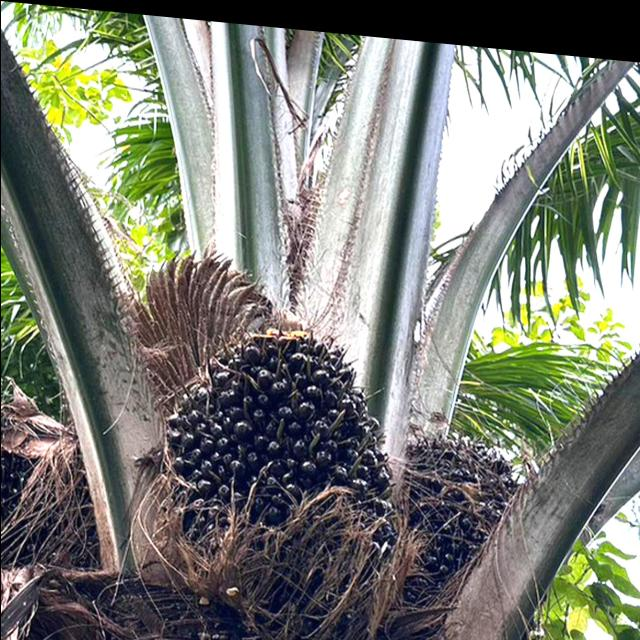almost: (159, 316, 392, 577), (400, 401, 532, 597), (0, 394, 95, 558)
